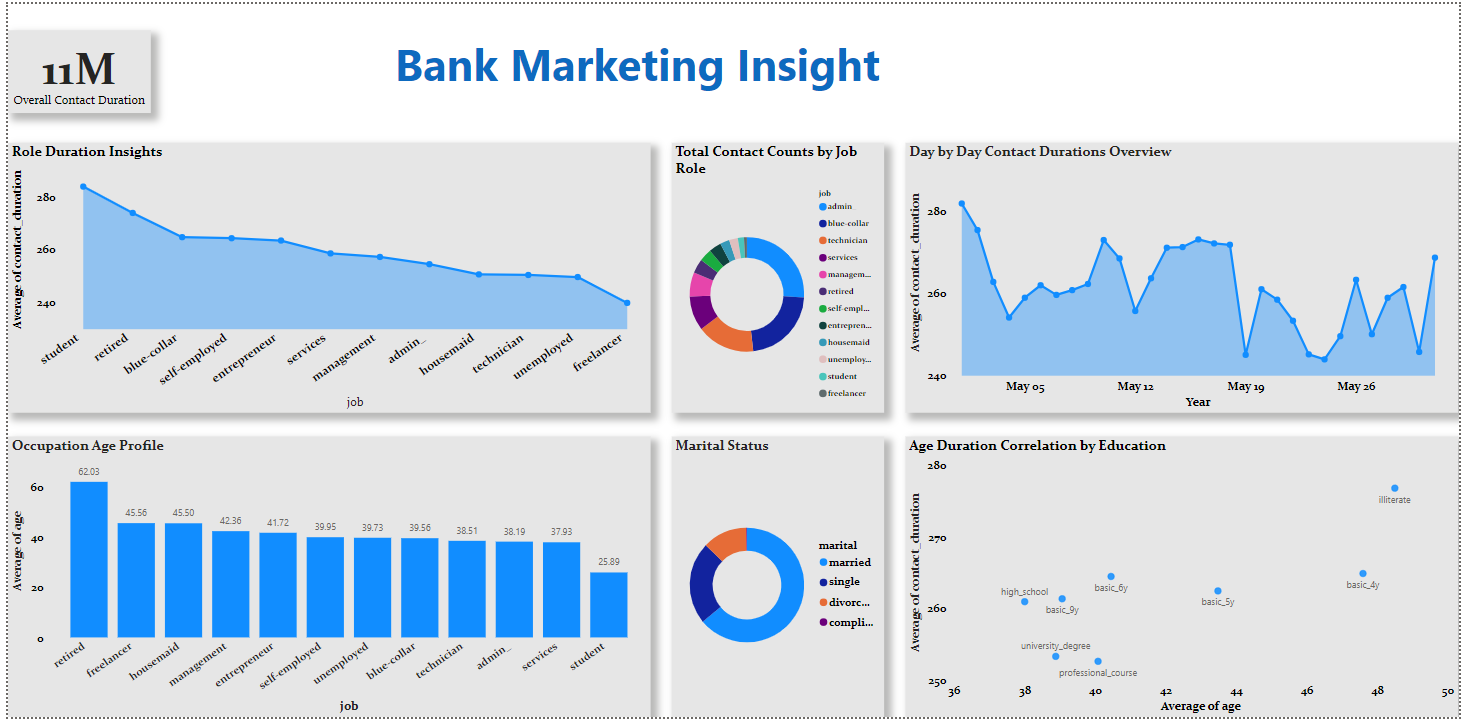

This screenshot's page, from the dashboard's own definition file:
{"tool":"powerbi","page":{"name":"Page 1","canvas":[1934,951],"ordinal":0},"visuals":[{"type":"columnChart","title":"Occupation Age Profile","fields":{"Y":["Avg(bank_marketing_df.age)"],"Category":["bank_marketing_df.job"]},"box":[0,577.1,857.1,374.3],"z":0},{"type":"donutChart","title":"Marital Status","fields":{"Category":["bank_marketing_df.marital"],"Y":["Sum(bank_marketing_df.age)"]},"box":[884.3,577.1,282.9,374.3],"z":1000},{"type":"donutChart","title":"Total Contact Counts by Job Role","fields":{"Y":["Sum(bank_marketing_df.number_contacts)"],"Category":["bank_marketing_df.job"]},"box":[884.3,184.3,282.9,360],"z":2000},{"type":"lineChart","title":"Day by Day Contact Durations Overview","fields":{"Y":["Avg(bank_marketing_df.contact_duration)"],"Category":["bank_marketing_df.last_contact_date.Variation.Date Hierarchy.Year","bank_marketing_df.last_contact_date.Variation.Date Hierarchy.Quarter","bank_marketing_df.last_contact_date.Variation.Date Hierarchy.Month","bank_marketing_df.last_contact_date.Variation.Date Hierarchy.Day"]},"box":[1197.1,184.3,737.1,360],"z":3000},{"type":"scatterChart","title":"Age Duration Correlation by Education","fields":{"Y":["Avg(bank_marketing_df.contact_duration)"],"X":["Avg(bank_marketing_df.age)"],"Category":["bank_marketing_df.education"]},"box":[1197.1,577.1,737.1,374.3],"z":4000},{"type":"stackedAreaChart","title":"Role Duration Insights","fields":{"Category":["bank_marketing_df.job"],"Y":["Avg(bank_marketing_df.contact_duration)"]},"box":[0,184.3,857.1,360],"z":5000},{"type":"card","fields":{"Values":["Sum(bank_marketing_df.contact_duration)"]},"box":[0,35.7,190,110],"z":6000},{"type":"textbox","box":[462.9,35.7,751.4,114.3],"z":6001}]}

Visuals, with their boxes in screenshot pixels (x1, y1, x2, y2), scaled from the page's 1934x951 canvas onto the 1465x720 screenshot:
"Occupation Age Profile" columnChart: [left=0, top=437, right=649, bottom=719]
"Marital Status" donutChart: [left=670, top=437, right=884, bottom=719]
"Total Contact Counts by Job Role" donutChart: [left=670, top=140, right=884, bottom=412]
"Day by Day Contact Durations Overview" lineChart: [left=907, top=140, right=1464, bottom=412]
"Age Duration Correlation by Education" scatterChart: [left=907, top=437, right=1464, bottom=719]
"Role Duration Insights" stackedAreaChart: [left=0, top=140, right=649, bottom=412]
card - Sum(bank_marketing_df.contact_duration): [left=0, top=27, right=144, bottom=110]
textbox: [left=351, top=27, right=920, bottom=114]
